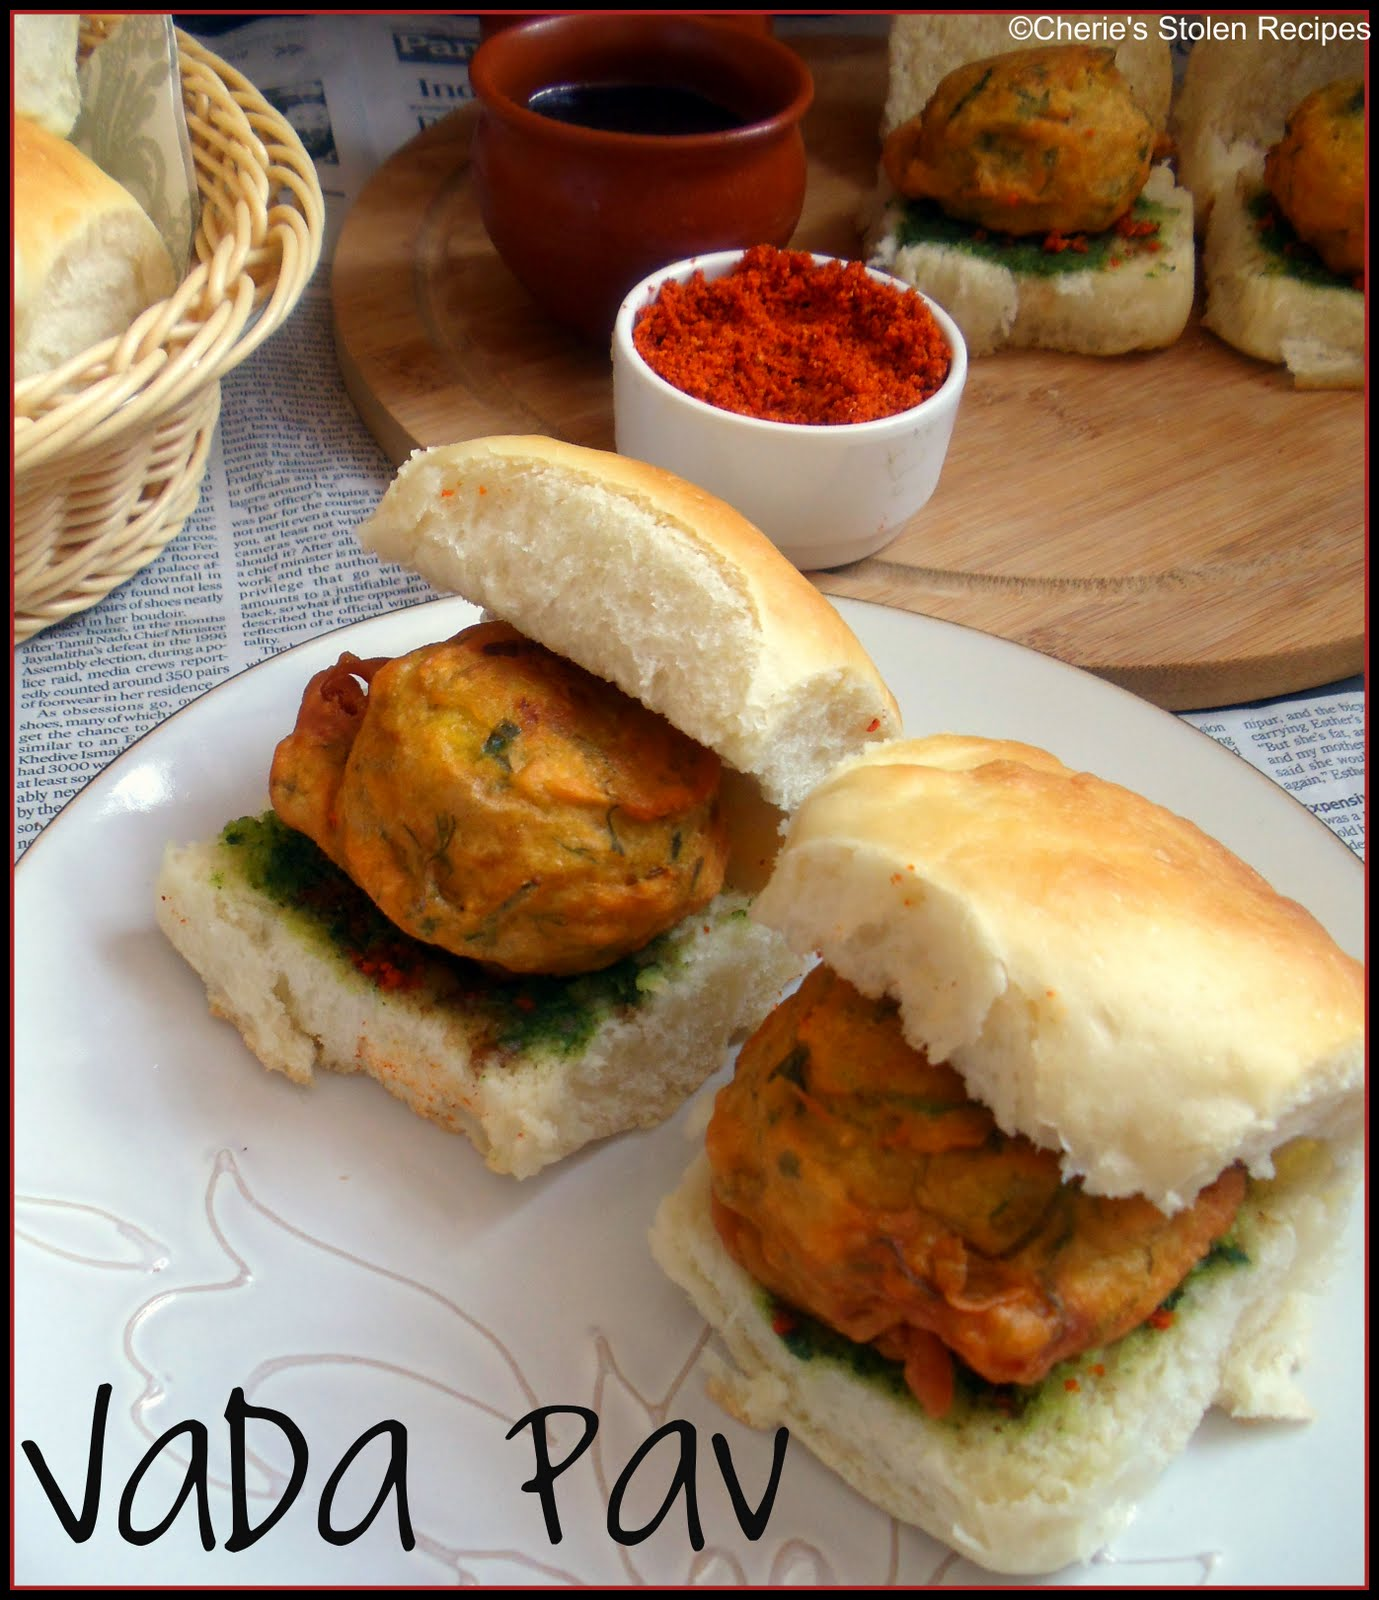vada pav: (824, 793, 1199, 1513), (407, 464, 695, 1103)
